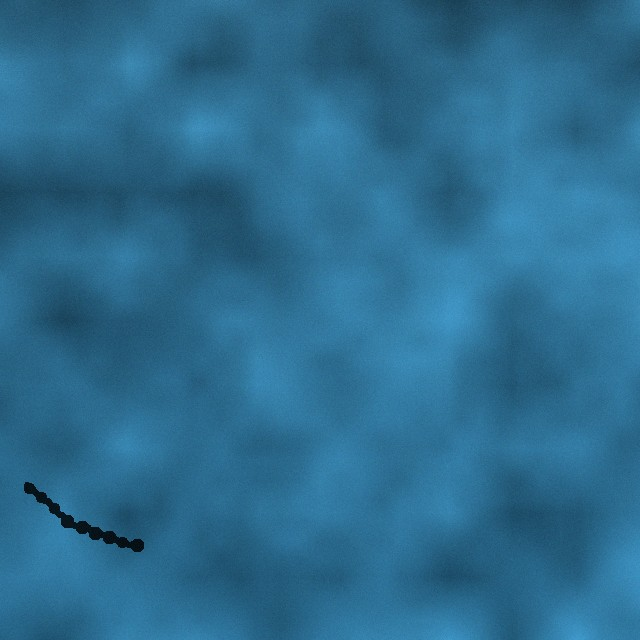crack: (20, 479, 143, 551)
